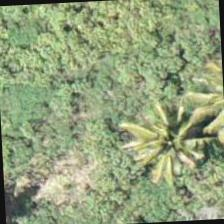Kelapa_Sawit: (113, 85, 208, 180)
